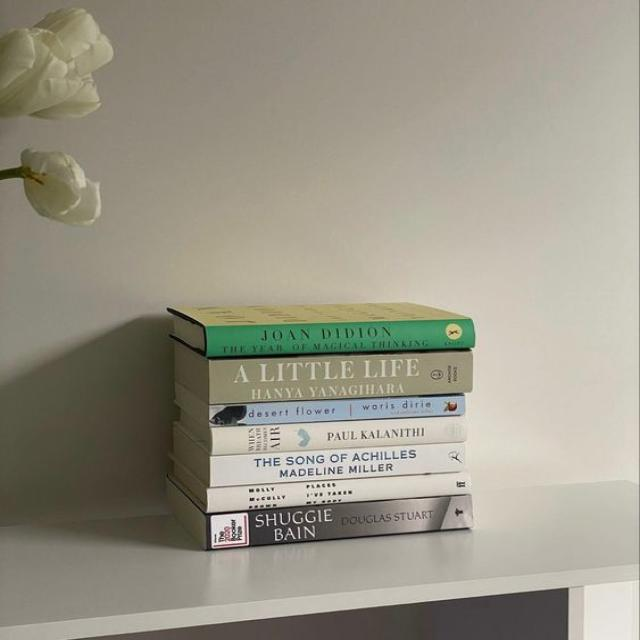book: (204, 496, 473, 550), (209, 352, 474, 402), (209, 444, 466, 486), (208, 472, 469, 512), (209, 416, 466, 453), (208, 395, 464, 427), (202, 322, 475, 348)
